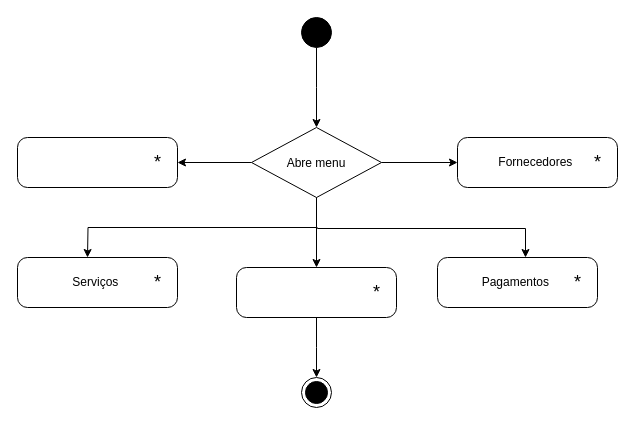
The diagram is 635 pixels wide and 425 high, and some of its shapes have lost their labels. Here are the shapes that lost their labels. From the top down, the box of each, then its label:
(16, 136, 178, 188): Clientes
(236, 266, 396, 318): Compras
